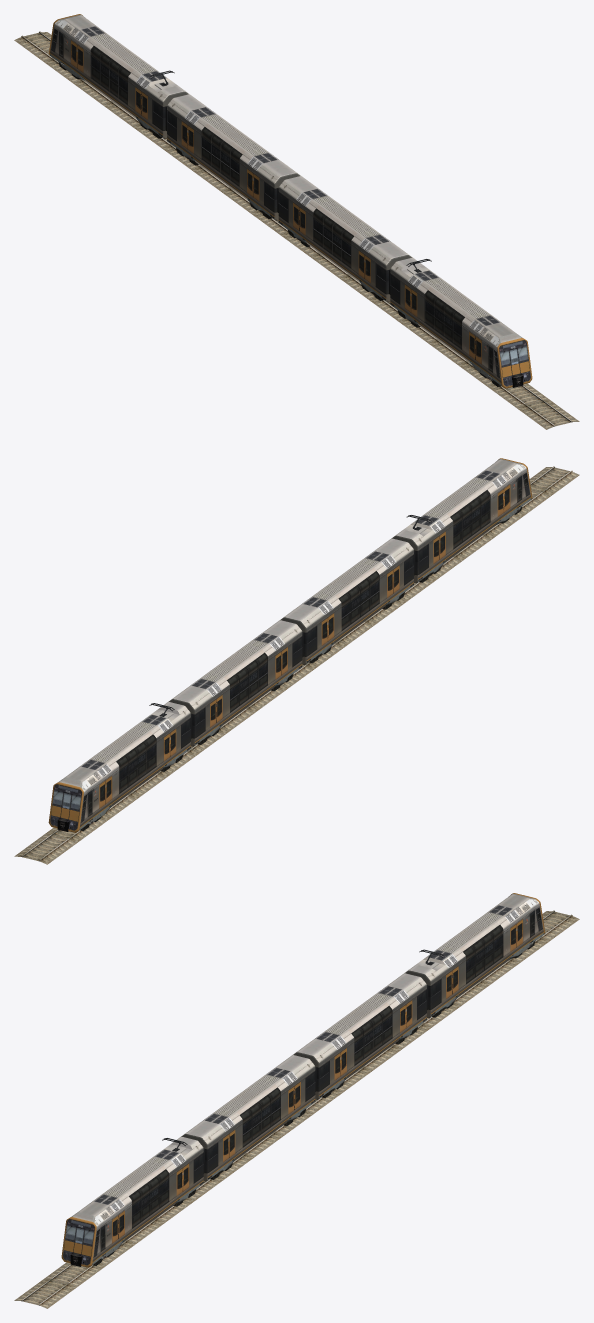
Rendered from train_model.glb.
The picture shows the model from 3 angles, top to bottom: view 1: azimuth 30°, elevation 25°; view 2: azimuth 150°, elevation 25°; view 3: azimuth 330°, elevation 25°; orthographic projection.
Visible parts, largest first — view 1: Cube.003_7, Cube_0, Cube.002_6, Cube.001_4, Plane_5; view 2: Cube_0, Cube.003_7, Cube.001_4, Cube.002_6, Plane_5; view 3: Cube.003_7, Cube_0, Cube.002_6, Cube.001_4, Plane_5.
Boxes of the visible parts, left/top/right/bottom form: Cube.003_7: left=390, top=258, right=532, bottom=388; Cube_0: left=48, top=14, right=189, bottom=139; Cube.002_6: left=278, top=176, right=412, bottom=302; Cube.001_4: left=167, top=94, right=300, bottom=220; Plane_5: left=14, top=31, right=579, bottom=429; Cube_0: left=48, top=702, right=190, bottom=832; Cube.003_7: left=391, top=458, right=532, bottom=583; Cube.001_4: left=168, top=620, right=302, bottom=746; Cube.002_6: left=280, top=538, right=413, bottom=664; Plane_5: left=14, top=466, right=579, bottom=864; Cube.003_7: left=61, top=1137, right=203, bottom=1267; Cube_0: left=404, top=893, right=545, bottom=1018; Cube.002_6: left=181, top=1055, right=315, bottom=1181; Cube.001_4: left=293, top=973, right=426, bottom=1099; Plane_5: left=14, top=910, right=579, bottom=1308.
Bounding box in the file's own units: 1.97 × 3.31 × 54.35.
8 materials, 8 textured.
